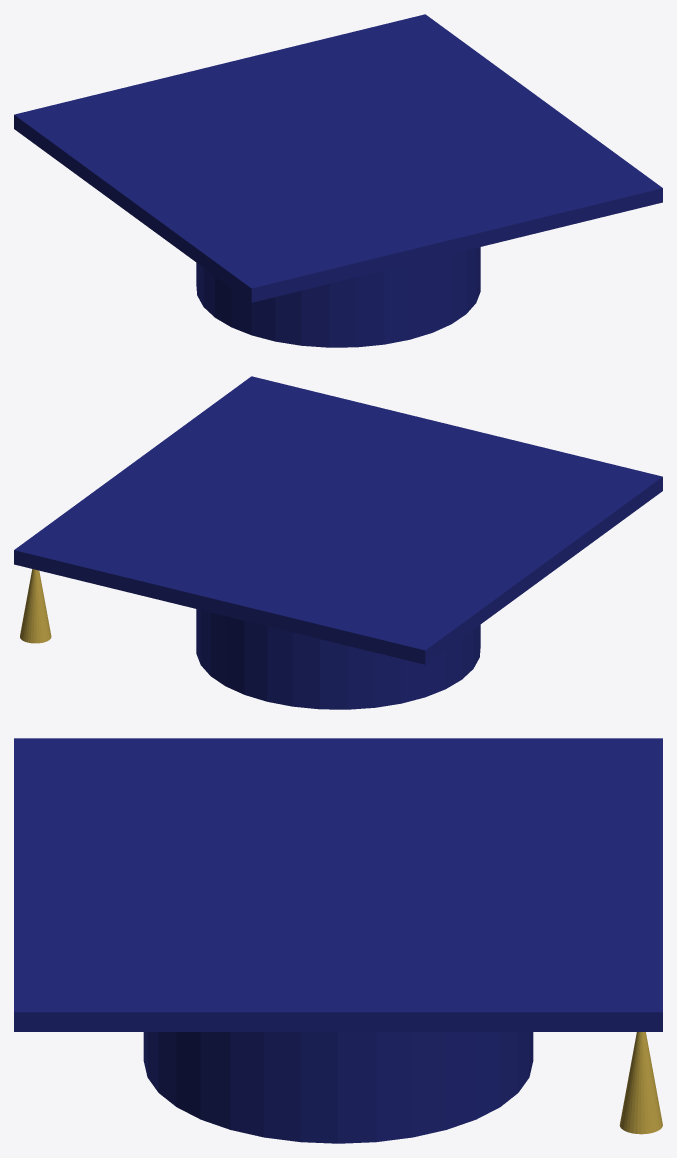
File: graduationHat.fbx
The picture shows the model from 3 angles, top to bottom: view 1: azimuth 30°, elevation 25°; view 2: azimuth 150°, elevation 25°; view 3: azimuth 270°, elevation 25°; orthographic projection. The views are drawn at different scales.
Parts seen in each view (by area): view 1: Cube, Cylinder; view 2: Cube, Cylinder, Cone; view 3: Cube, Cylinder, Cone.
Part boxes in pixels (bbox=[...]): Cube: bbox=[14, 14, 662, 302]; Cylinder: bbox=[196, 247, 480, 347]; Cube: bbox=[14, 376, 662, 664]; Cylinder: bbox=[196, 609, 480, 709]; Cone: bbox=[20, 569, 51, 643]; Cube: bbox=[14, 738, 662, 1031]; Cylinder: bbox=[143, 1032, 533, 1143]; Cone: bbox=[619, 1032, 662, 1134].
Bounding box in the file's own units: 300 × 94.94 × 300.
